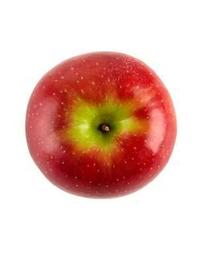apple: (21, 50, 176, 198)
